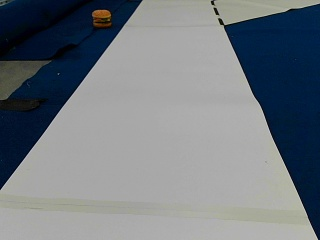burger: (91, 7, 112, 28)
